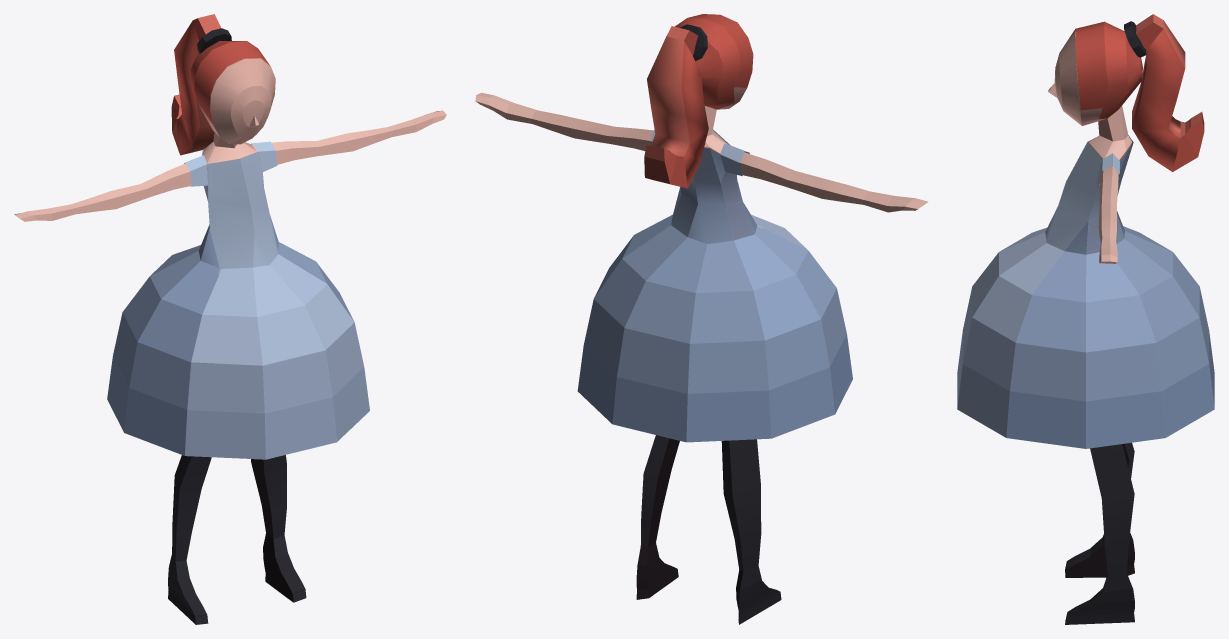
The model's file is LowPoly_Alice_CharacterModel 1.fbx.
3 renders of one model, left to right at view 1: azimuth 30°, elevation 25°; view 2: azimuth 150°, elevation 25°; view 3: azimuth 270°, elevation 25°, orthographic. The views are drawn at different scales.
Parts seen in each view (by area): view 1: Dress4, Alice; view 2: Dress4, Alice; view 3: Dress4, Alice.
Boxes of the visible parts, bbox=[...] form: Dress4: bbox=[107, 141, 369, 459]; Alice: bbox=[14, 14, 446, 624]; Dress4: bbox=[577, 129, 852, 442]; Alice: bbox=[475, 14, 928, 624]; Dress4: bbox=[957, 135, 1214, 448]; Alice: bbox=[1048, 14, 1204, 624].
Bounding box in the file's own units: 17.4 × 21.98 × 8.85.
2 materials, 2 textured.
